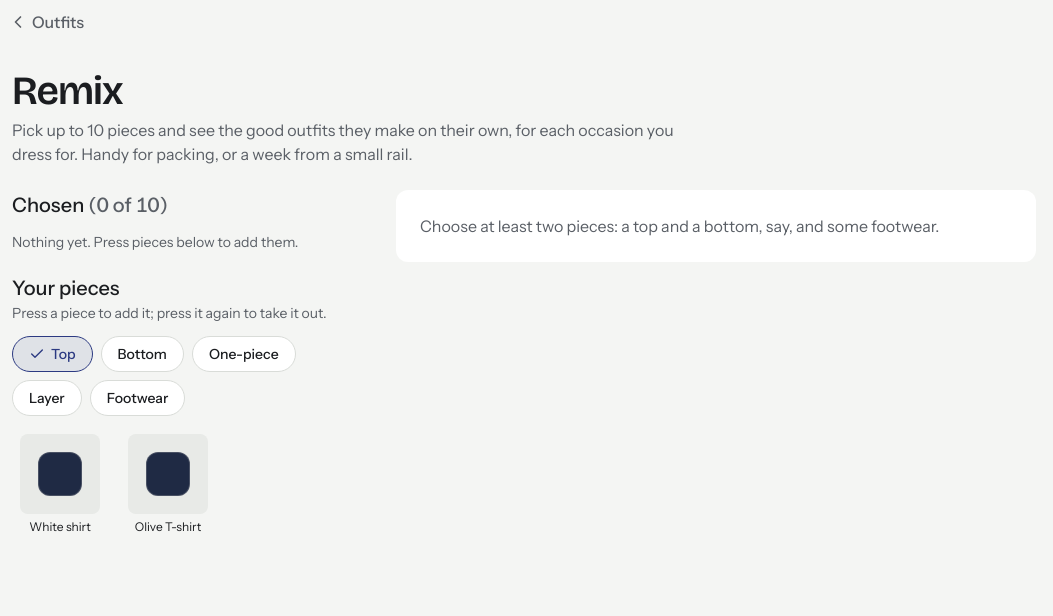
Test: finds the good outfits the chosen pieces make, per occasion
Click the button with aria-label "Add: White shirt": [60, 485] box [12,428,108,542]
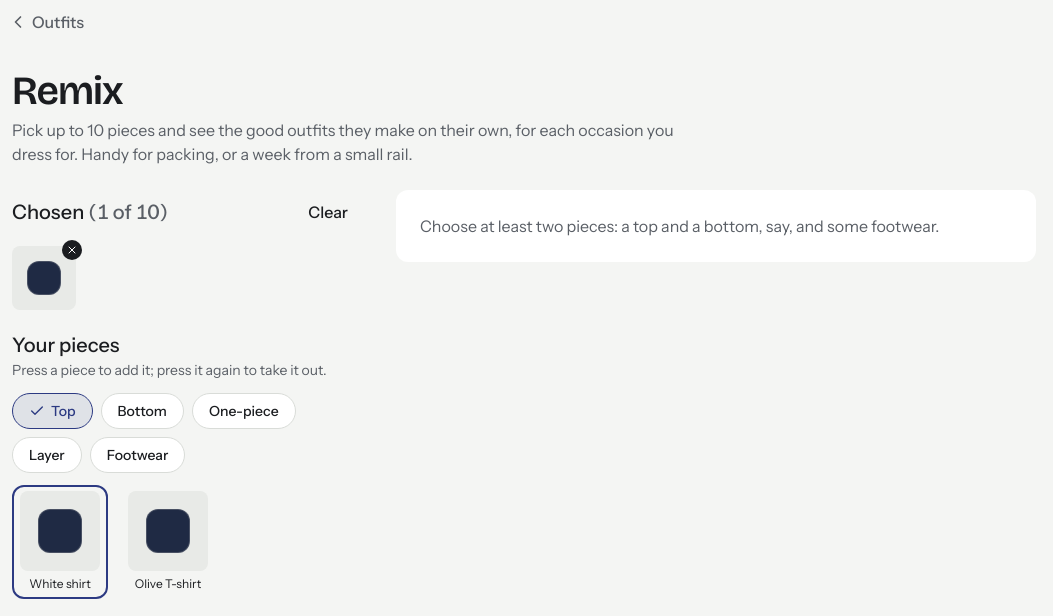
Click the button with aria-label "Add: Olive T-shirt": [168, 542] box [120,485,216,599]
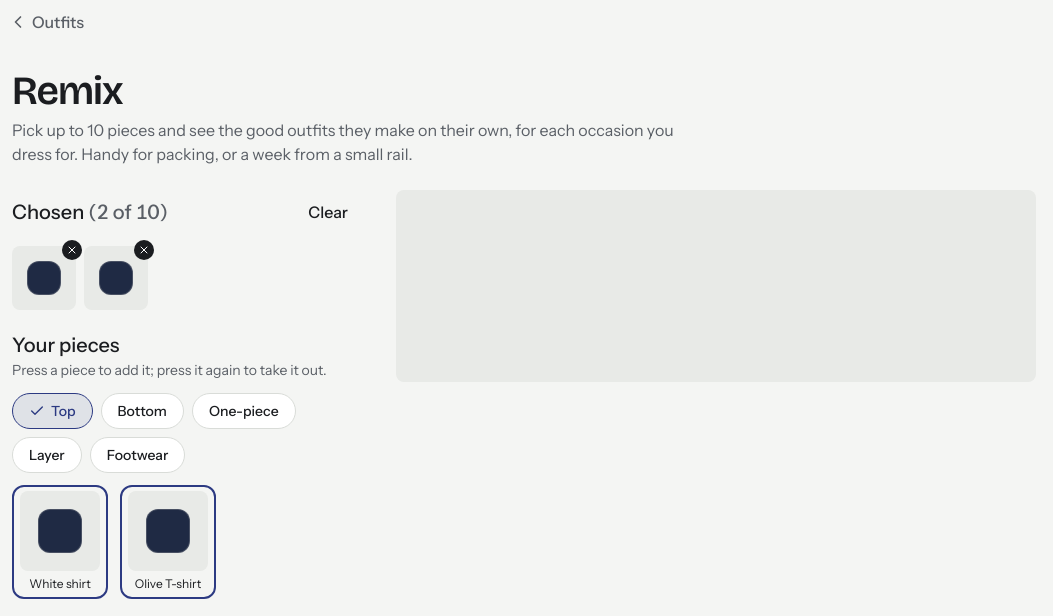
Note: Pressed again, it comes out.
Click the button with aria-label "Chosen: Olive T-shirt": [168, 542] box [120,485,216,599]
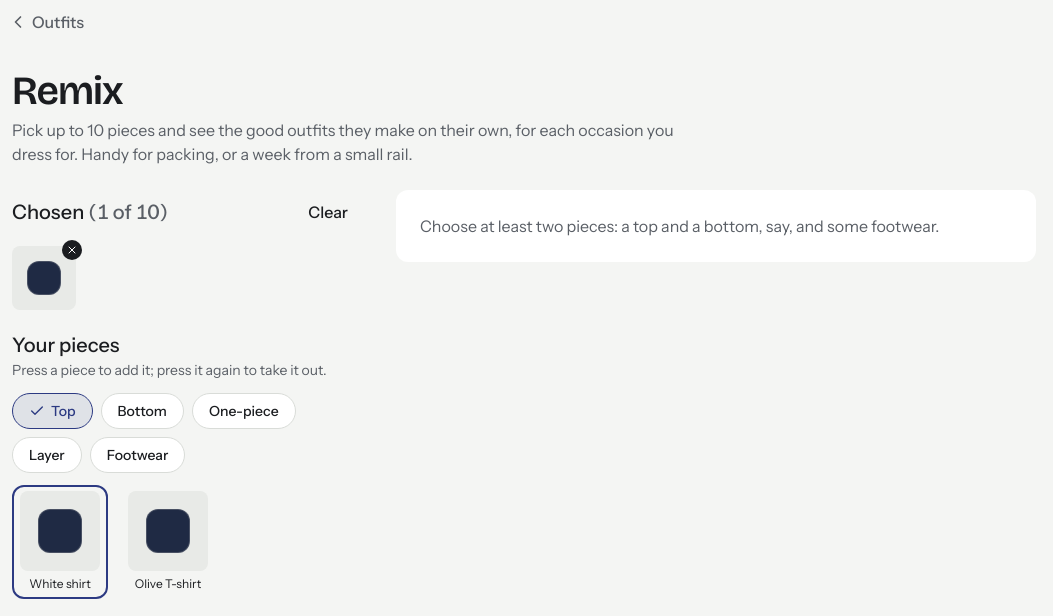
expect the text "Choose at least two pieces" is shown: met, box [420,216,939,236]
Click the button "Bottom": [142, 411] box [100,393,184,429]
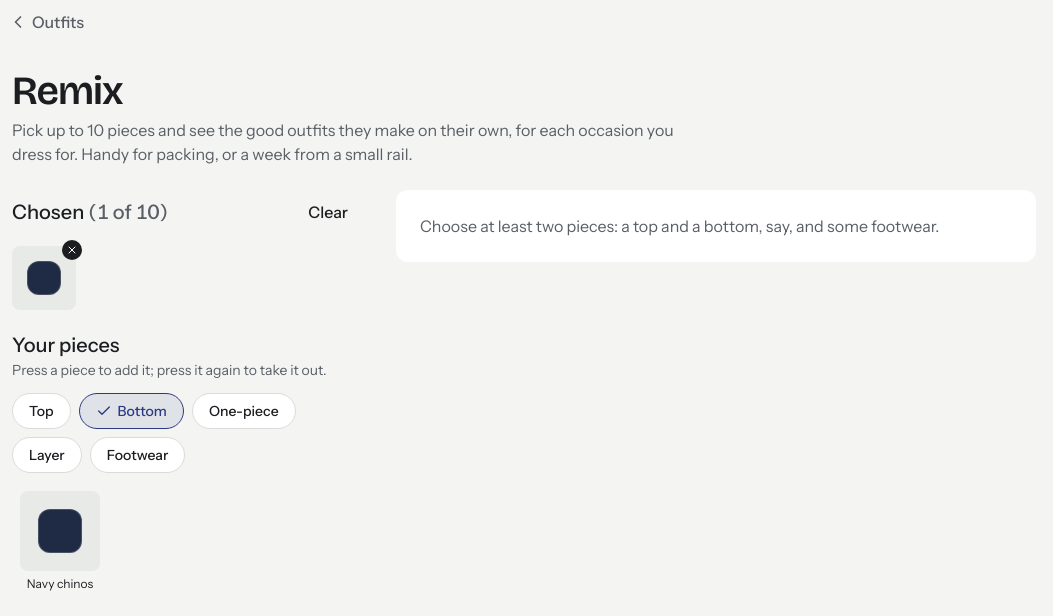
Click the button with aria-label "Add: Navy chinos": [60, 542] box [12,485,108,599]
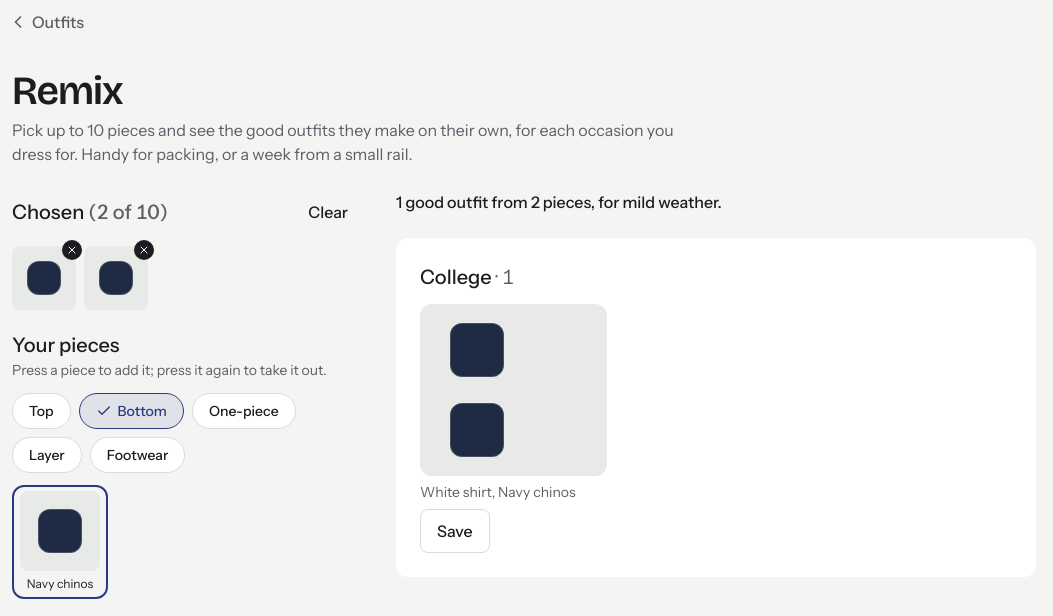
expect the text "1 good outfit from 2 pieces, for mild weather." is shown: met, box [396,192,722,212]
expect the text "White shirt, Navy chinos" is shown: met, box [420,483,576,501]
